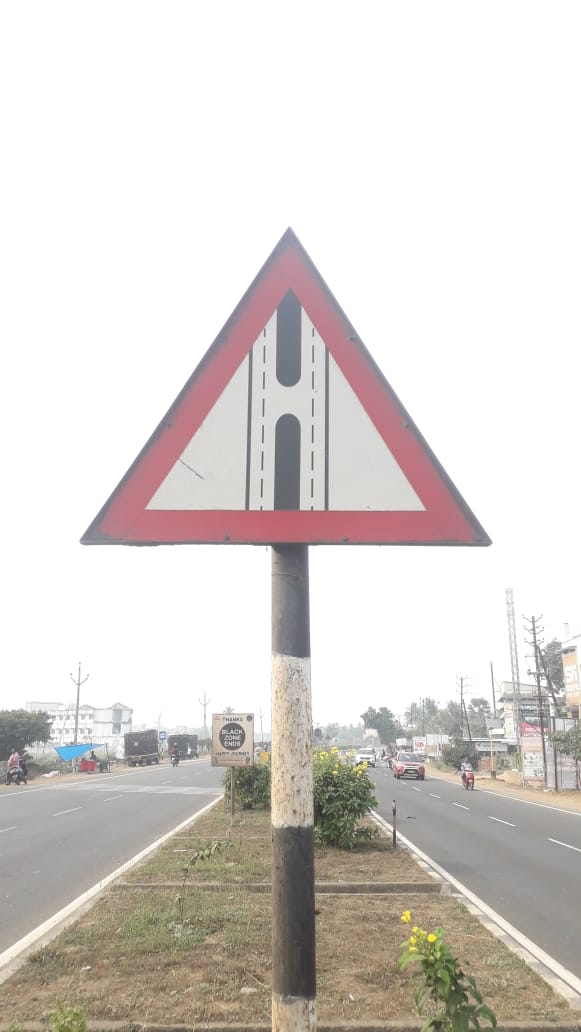highway go straight: (73, 194, 539, 594)
